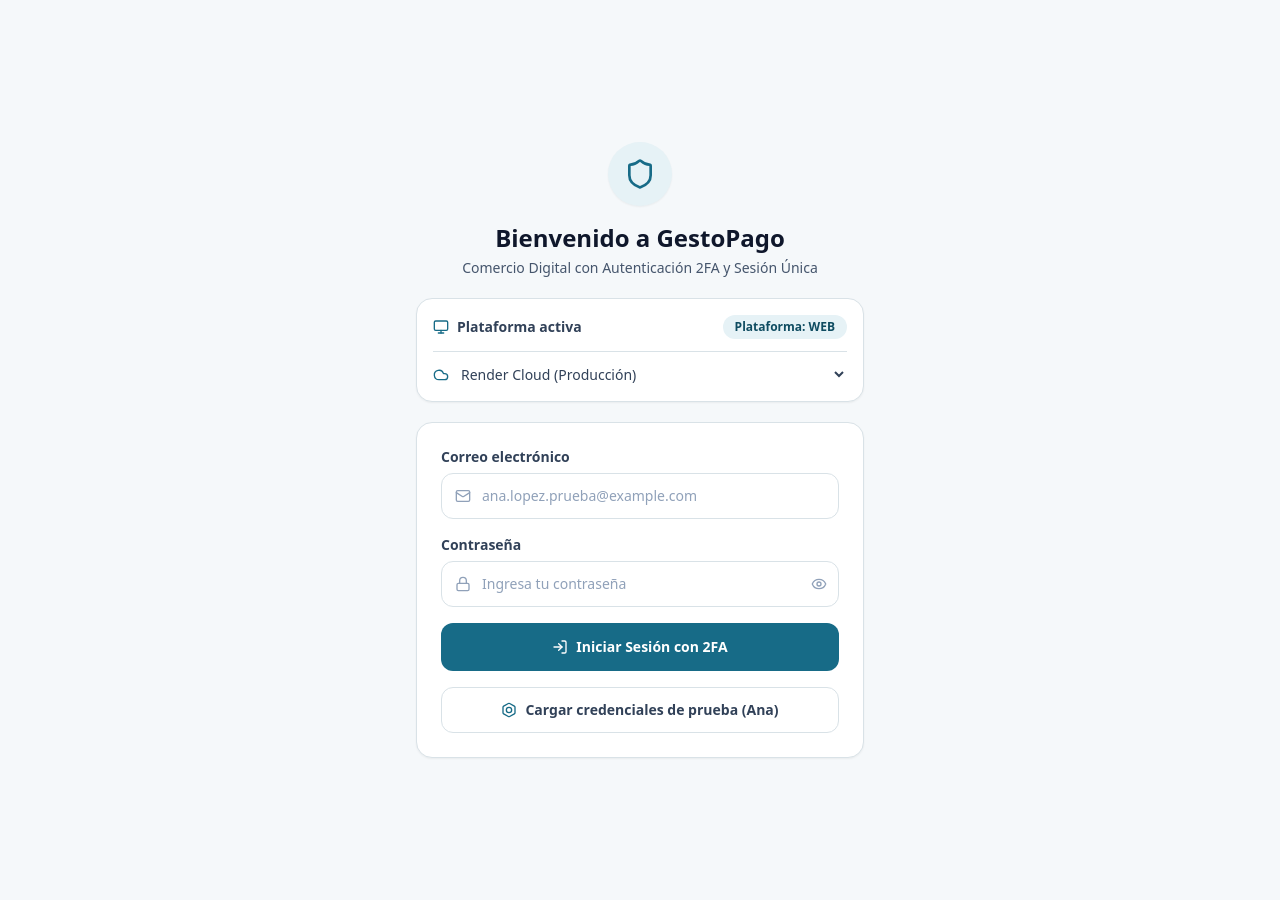
Fase 2: Flujo completo de Autenticación Web, 2FA y Sesión Única › completa login con credenciales de Ana, verificacion 2FA y renderiza cuenta Web
Click the button "Cargar credenciales de prueba (Ana)" at (640, 710), box [441,687,839,733]
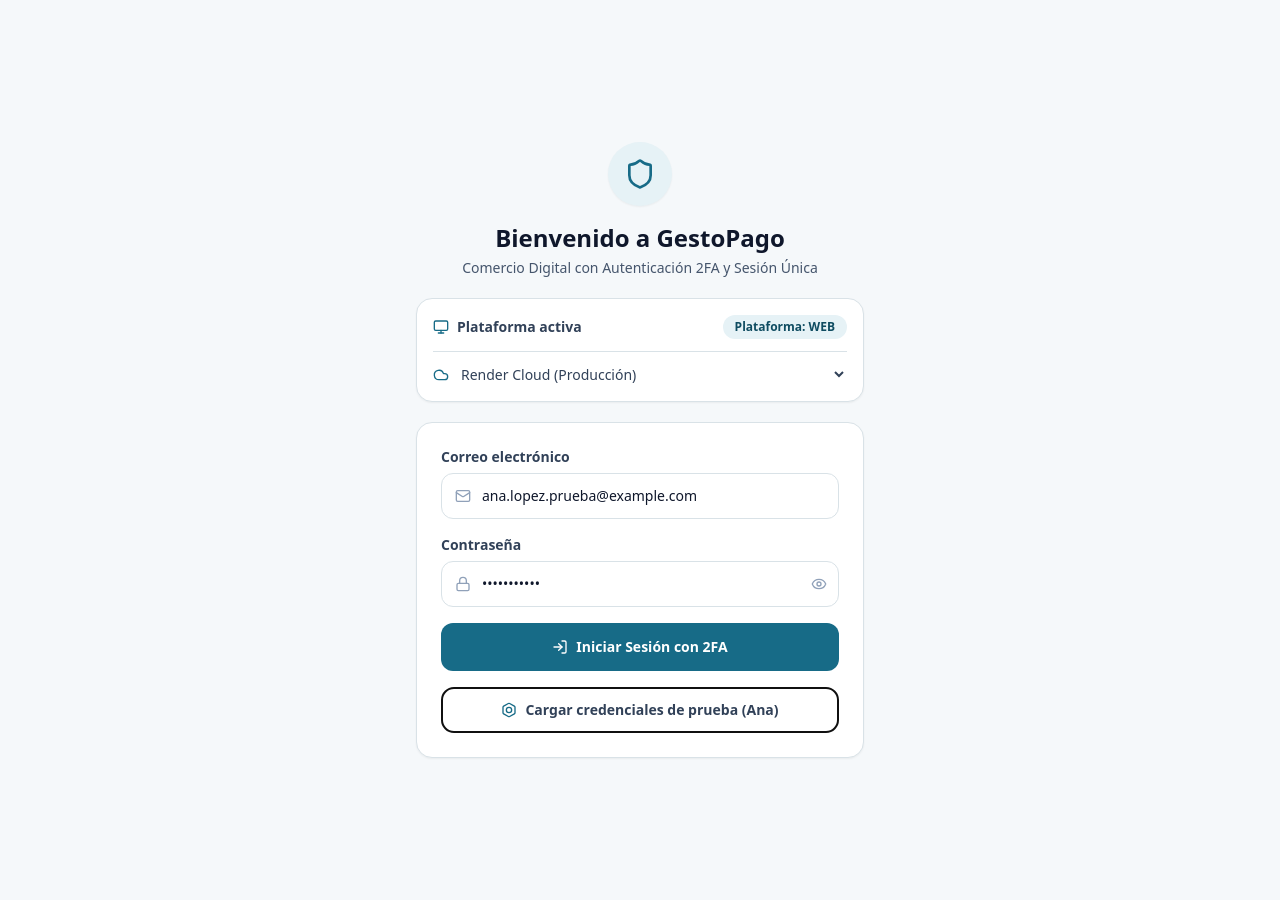
Click the button "Iniciar Sesión con 2FA" at (640, 647), box [441,623,839,671]
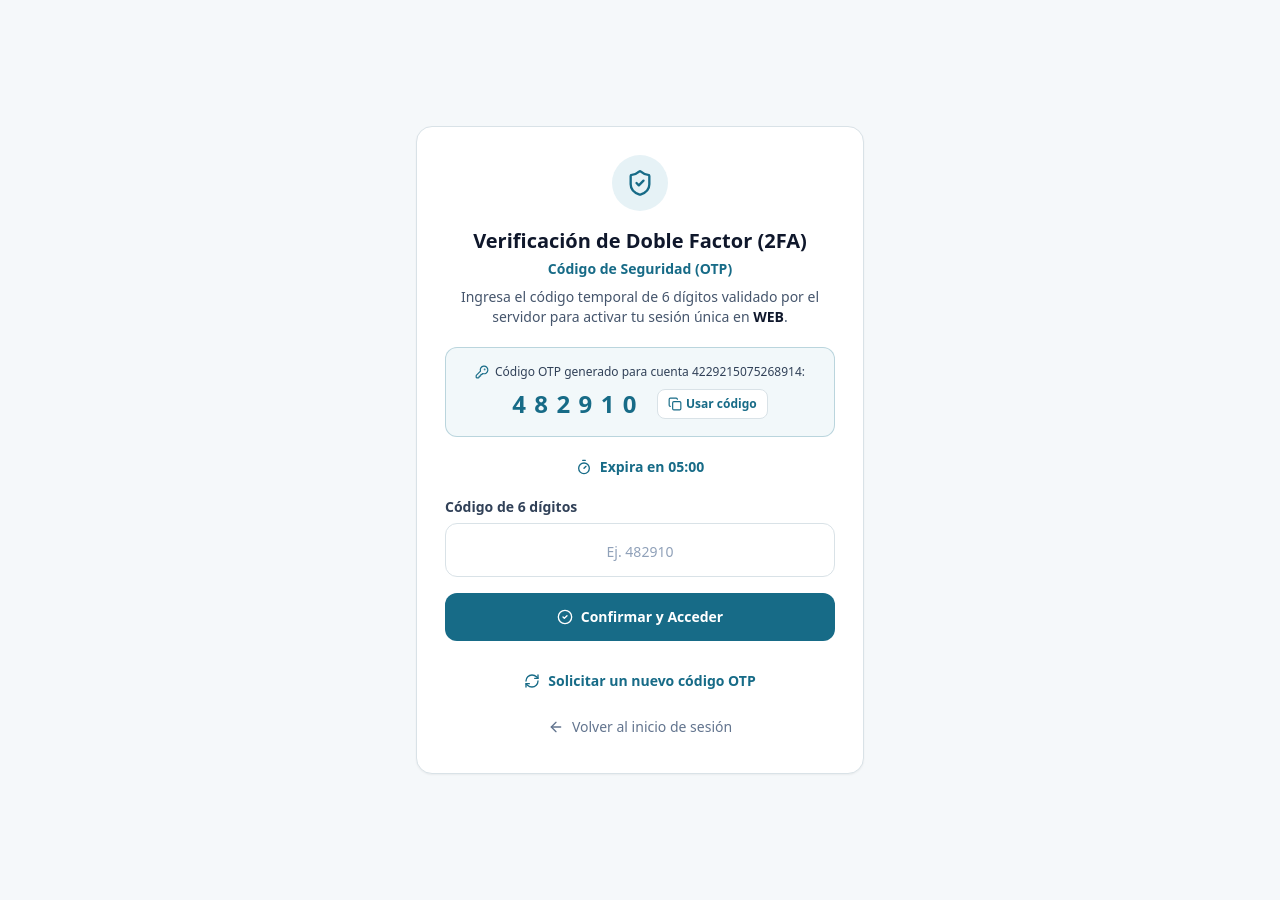
Result: the heading "Verificación de Doble Factor (2FA)" is shown at [473,227,807,255]
Result: the text "482910" is shown at [512,388,645,420]
Click the button "Usar código" at (712, 404), box [657,389,768,419]
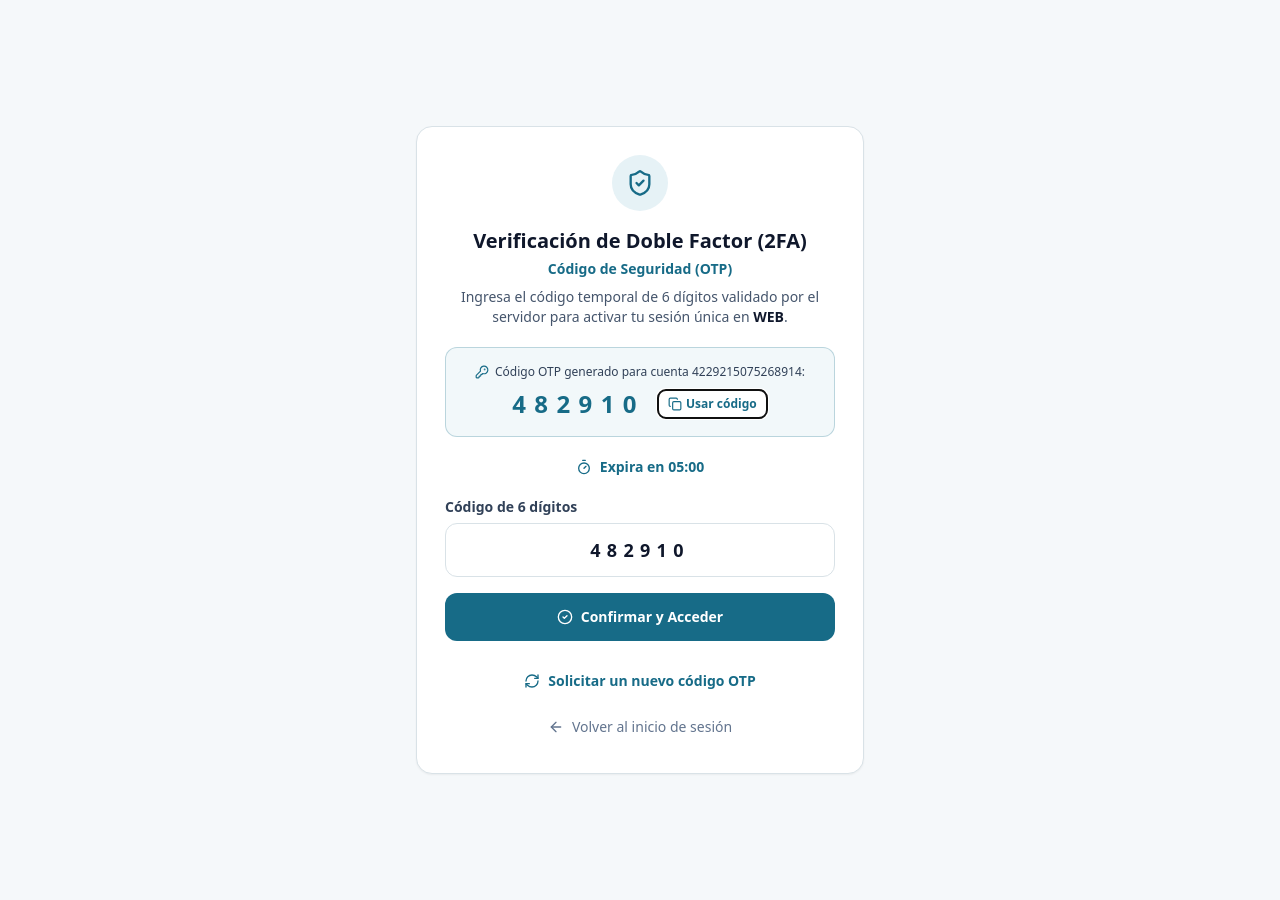
Click the button "Confirmar y Acceder" at (640, 617), box [445,593,835,641]
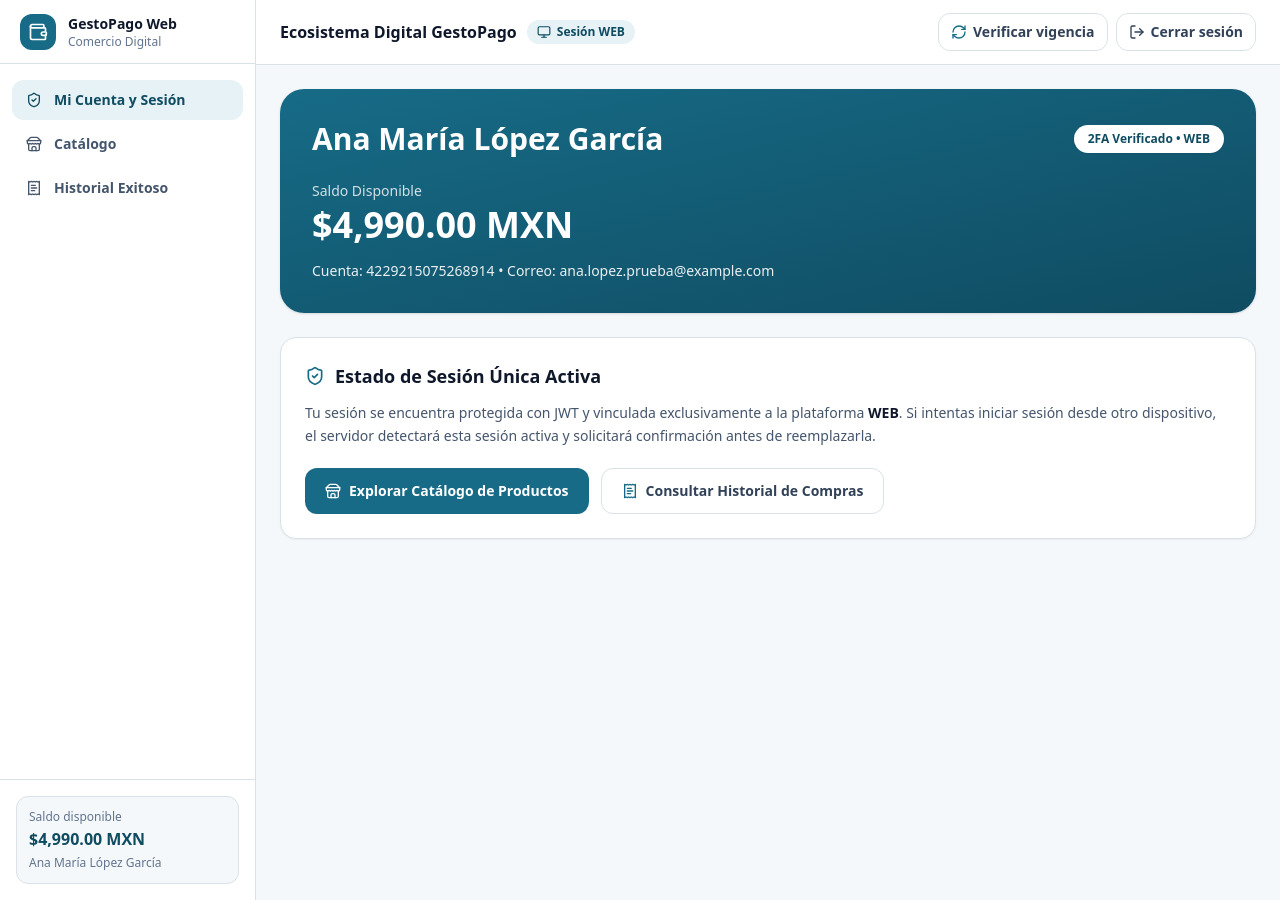
Result: the heading "Ana María López García" is shown at [312,121,663,157]
Result: the text "Sesión WEB" is shown at [527,20,635,44]
